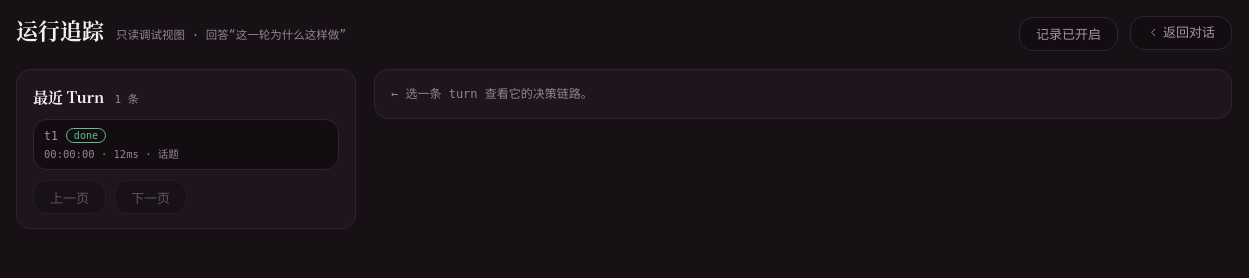
Scenario: 调试视图读取错误分区显示 › 开关切换失败：错误在开关旁且不改真实状态（不假装切换）
The image size is (1249, 278).
Step 1. Click the button "记录已开启" → click(1068, 34), box x1=1019 y1=16 x2=1118 y2=50
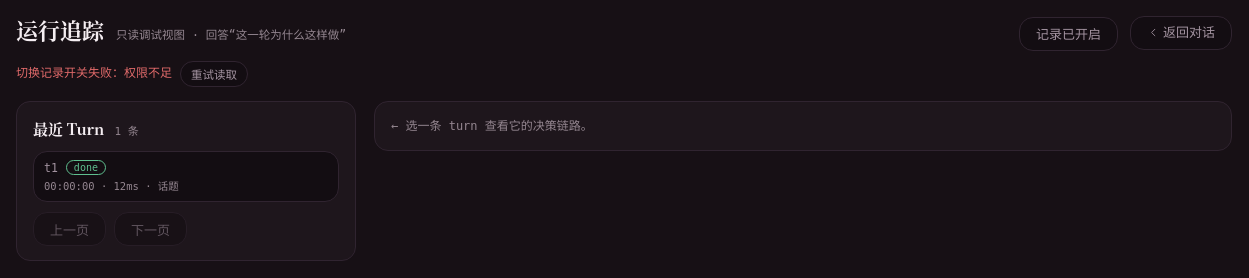
Check: the message "切换记录开关失败：权限不足 重试读取" is shown, box x1=16 y1=60 x2=248 y2=86
Check: the message with class "debug-settings-error" shows "切换记录开关失败", box x1=16 y1=64 x2=172 y2=81
